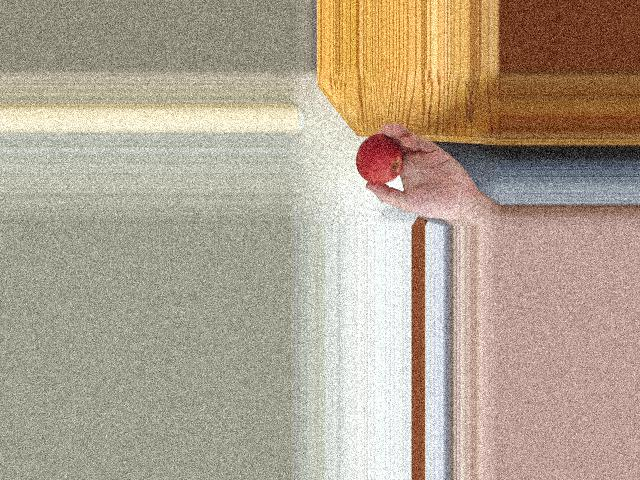apple: (356, 134, 407, 186)
